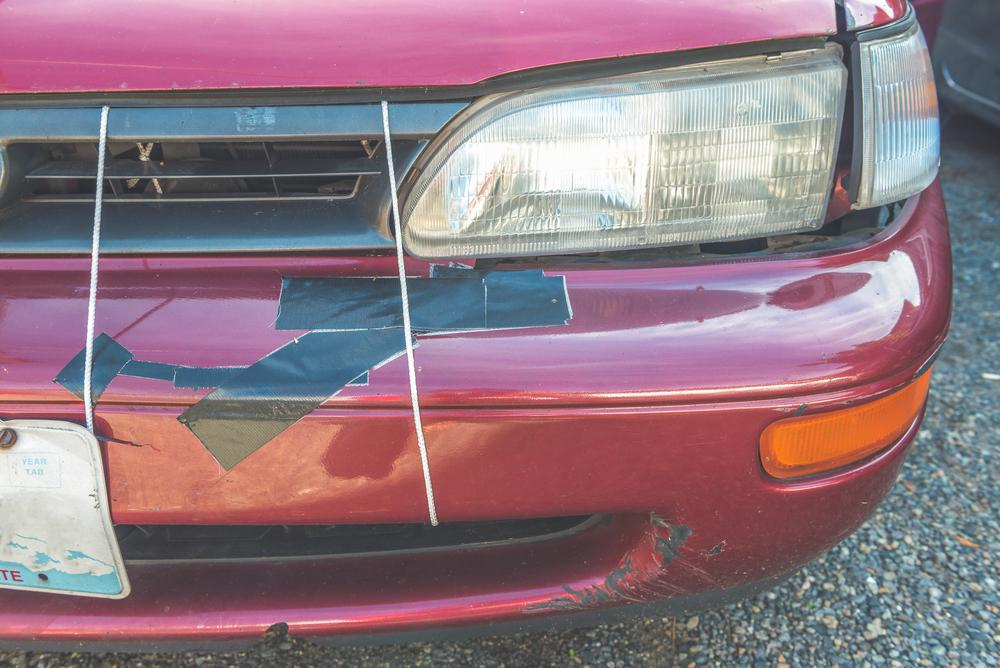crack: (97, 435, 160, 452)
scratch: (515, 514, 763, 616)
